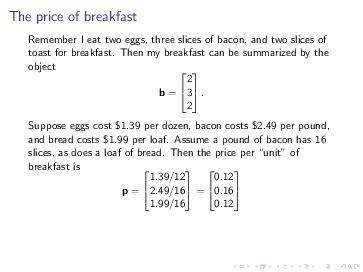paragraph: (24, 32, 338, 227)
title: (7, 6, 140, 27)
